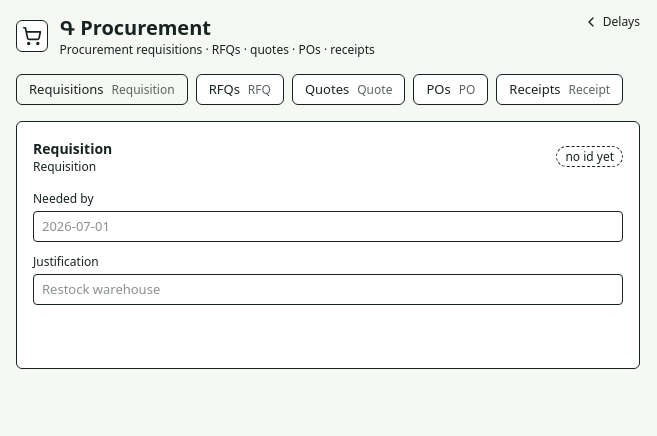
Scenario: procurement tab strip › switches tabs when a tab button is clicked
Click the tab with test id "procurement-tab-rfq".
click(240, 90)  # box [196,74,284,105]
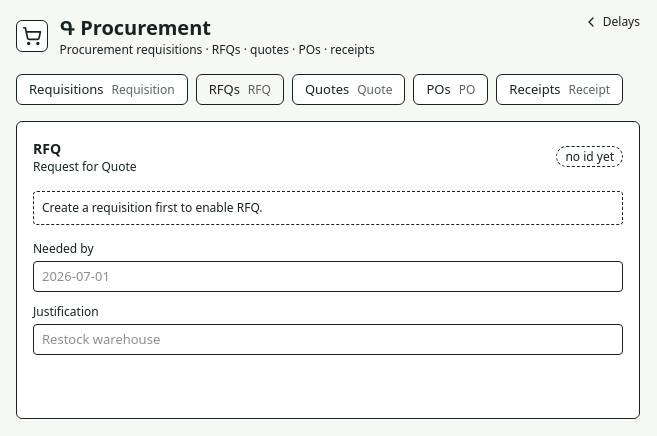
Expected: the form with test id "procurement-rfq-form" is shown
